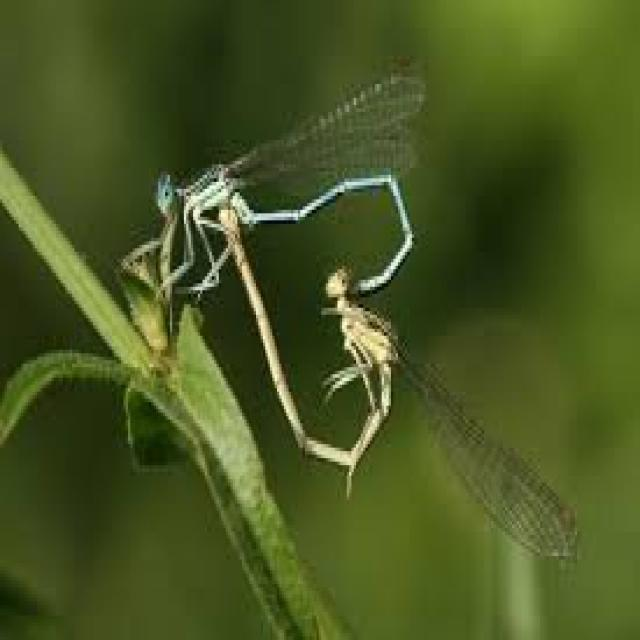dragonfly: (219, 203, 575, 553), (156, 73, 421, 290)
